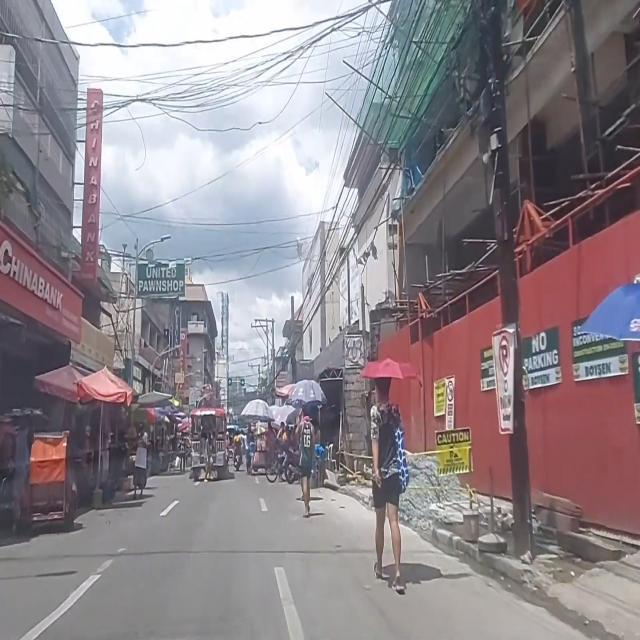bike: (265, 454, 286, 482)
jeepney: (190, 408, 227, 478), (226, 424, 238, 456)
motorcycle: (284, 450, 301, 483), (232, 427, 242, 470), (226, 433, 230, 462)
